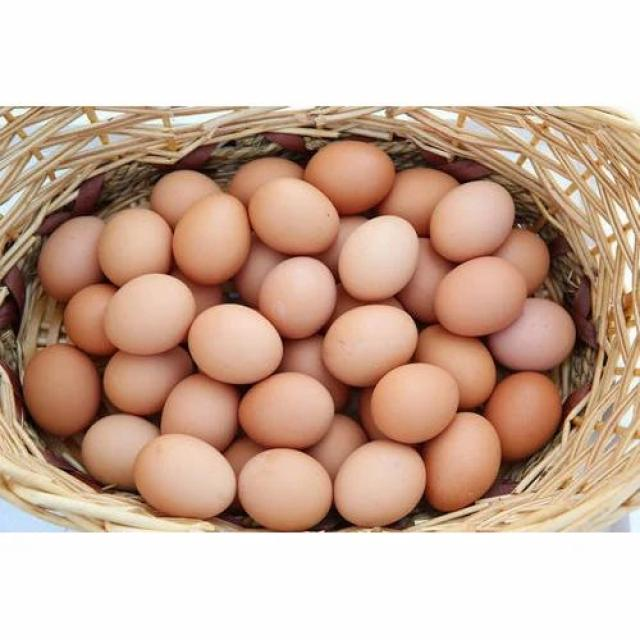Egg: (24, 140, 580, 531), (322, 305, 418, 387), (188, 304, 282, 383), (104, 274, 196, 354), (239, 372, 334, 448), (339, 215, 419, 301), (249, 178, 339, 254), (259, 256, 336, 338)
